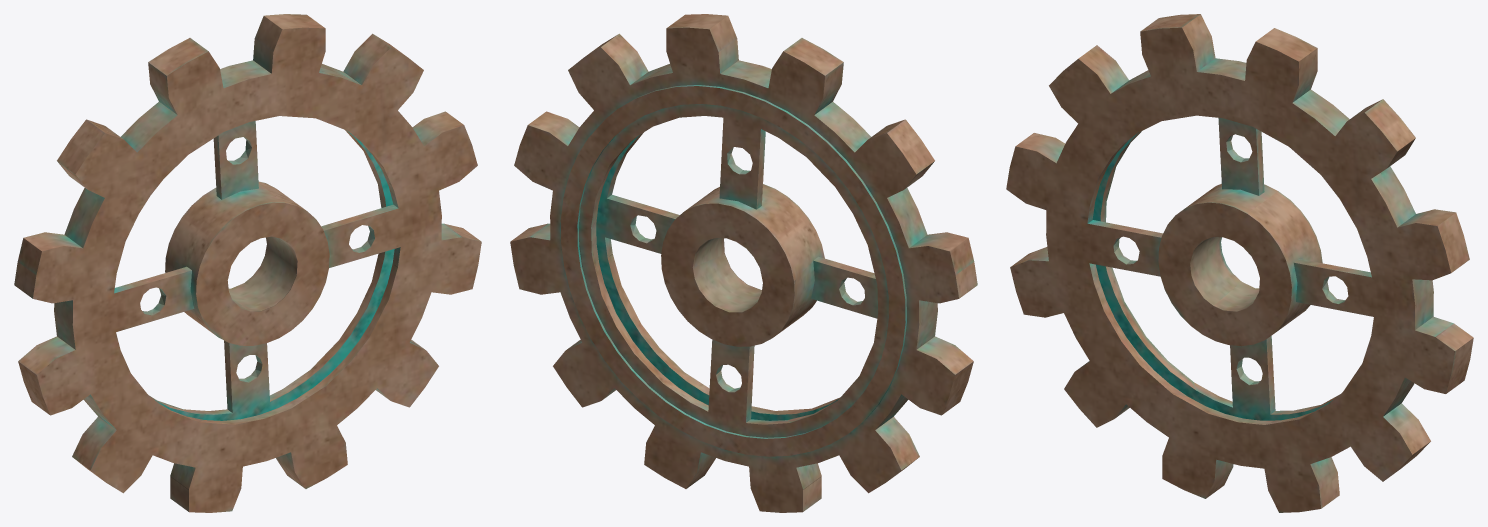
File: gear.glb
3 renders of one model, left to right at view 1: azimuth 30°, elevation 25°; view 2: azimuth 150°, elevation 25°; view 3: azimuth 330°, elevation 25°, orthographic.
Parts seen in each view (by area): view 1: Gear.000; view 2: Gear.000; view 3: Gear.000.
Part boxes in pixels (box(x1,y1,x2,y2)): Gear.000: box(14, 14, 481, 512); Gear.000: box(510, 14, 977, 512); Gear.000: box(1006, 14, 1473, 512).
Size of the model in its own units: 208 by 208 by 24.9.
Materials: 1 (1 with a texture image).
